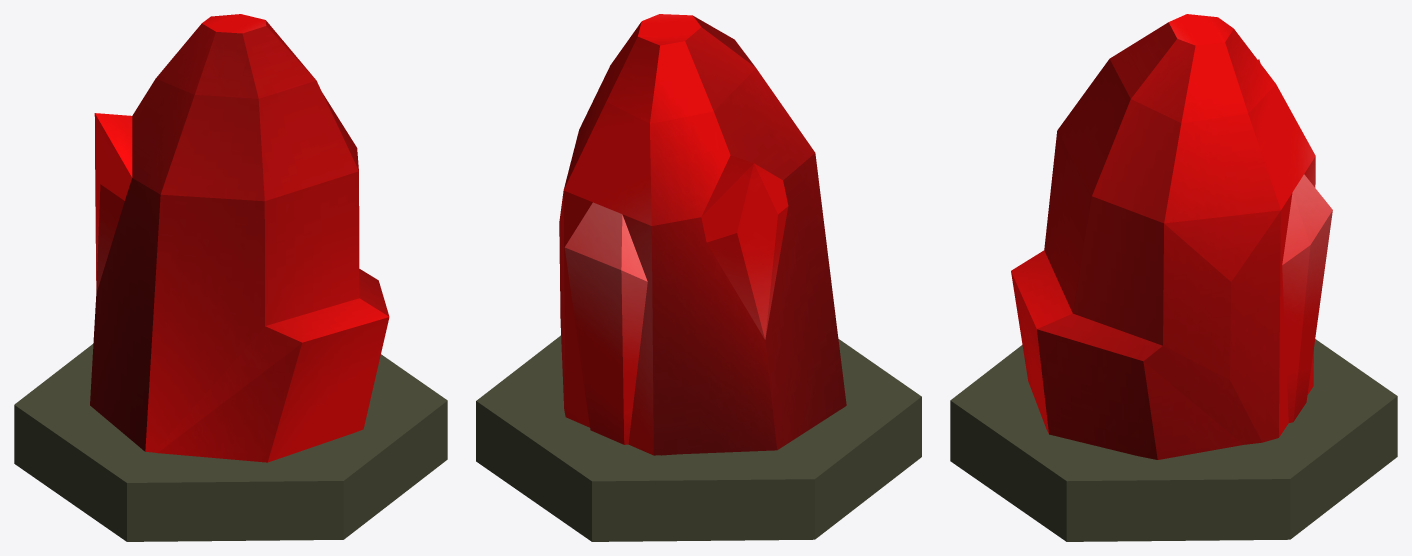
The model's file is GroundBlock(1).fbx.
The picture shows the model from 3 angles, left to right: view 1: azimuth 30°, elevation 25°; view 2: azimuth 150°, elevation 25°; view 3: azimuth 270°, elevation 25°; orthographic projection. The views are drawn at different scales.
Visible parts, largest first — view 1: Block2; view 2: Block2; view 3: Block2.
Part boxes in pixels (<box>): Block2: <box>14,14,447,541</box>; Block2: <box>476,14,921,541</box>; Block2: <box>950,14,1397,541</box>.
Bounding box in the file's own units: 1.75 × 2 × 2.18.
